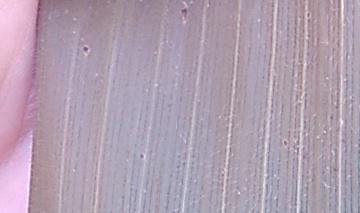tarspot: (175, 5, 192, 20), (77, 41, 93, 56), (301, 7, 313, 21), (136, 151, 149, 162), (280, 135, 290, 149), (326, 113, 336, 122)
